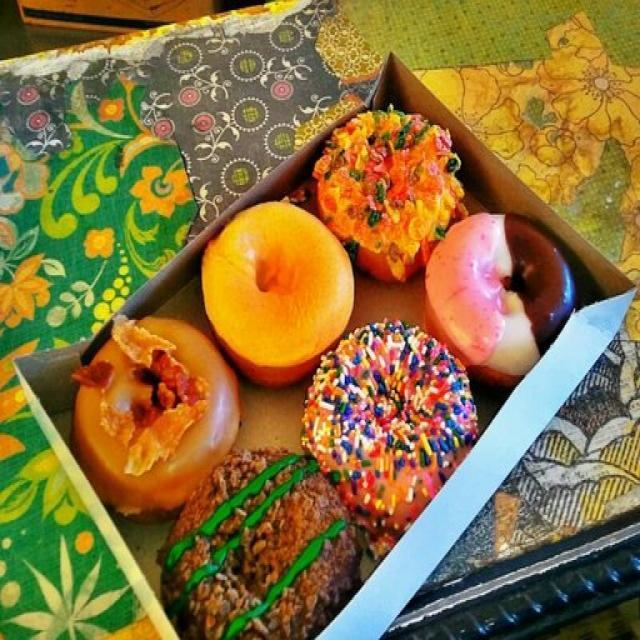Donuts: (69, 100, 560, 640)
